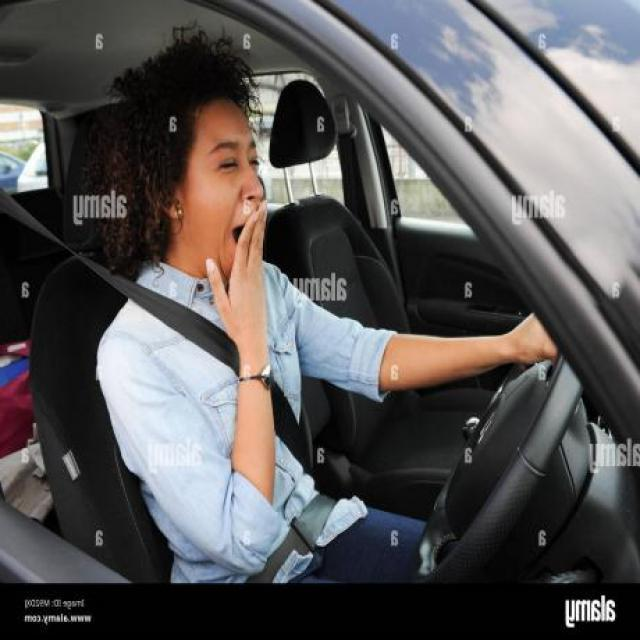close: (204, 134, 240, 181), (246, 138, 264, 174)
